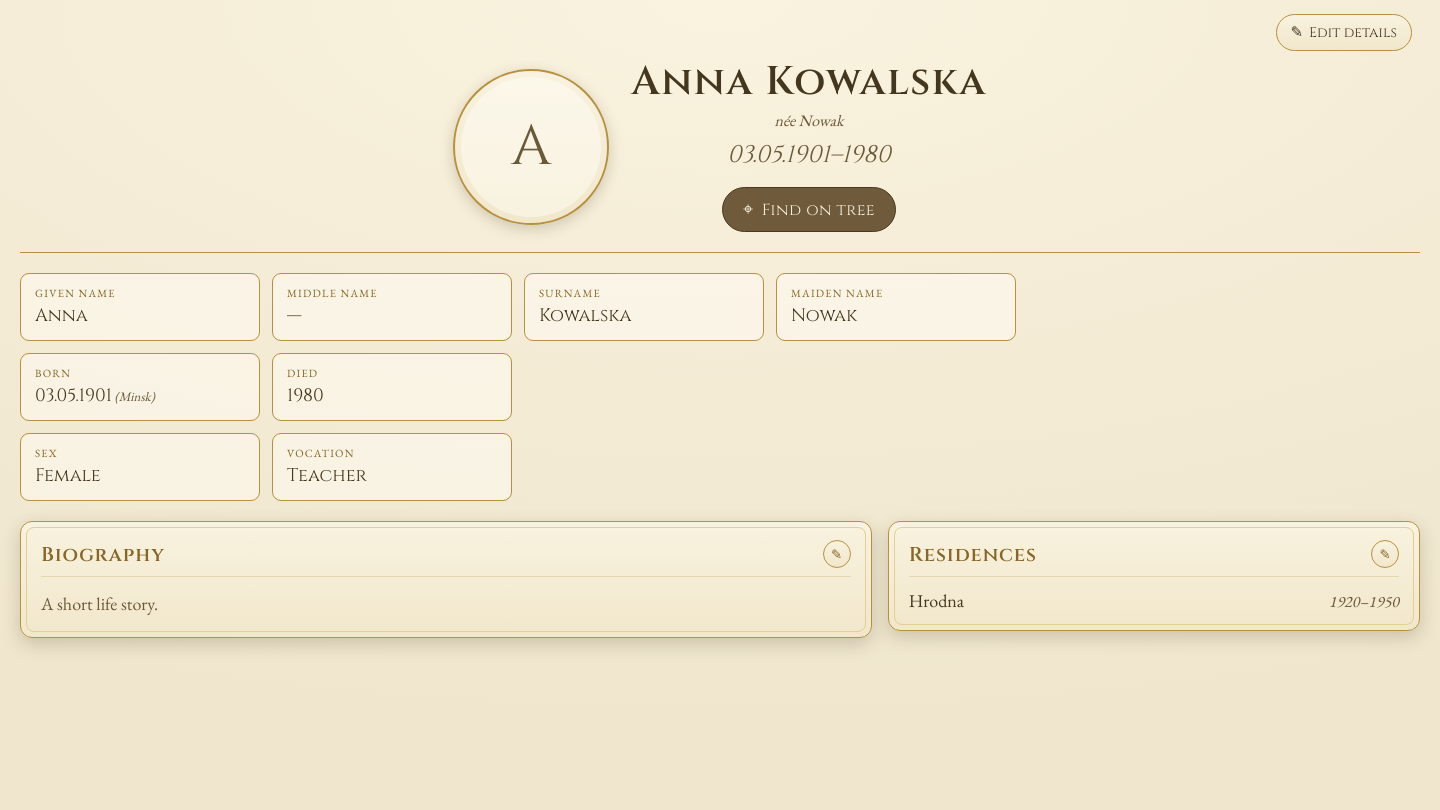
MemberDetail editing › opens the editor and hides the read-only tablets when Edit is clicked
The image size is (1440, 810).
Click the button with test id "fields-edit" at x=1344, y=32, box [1276, 14, 1412, 51]
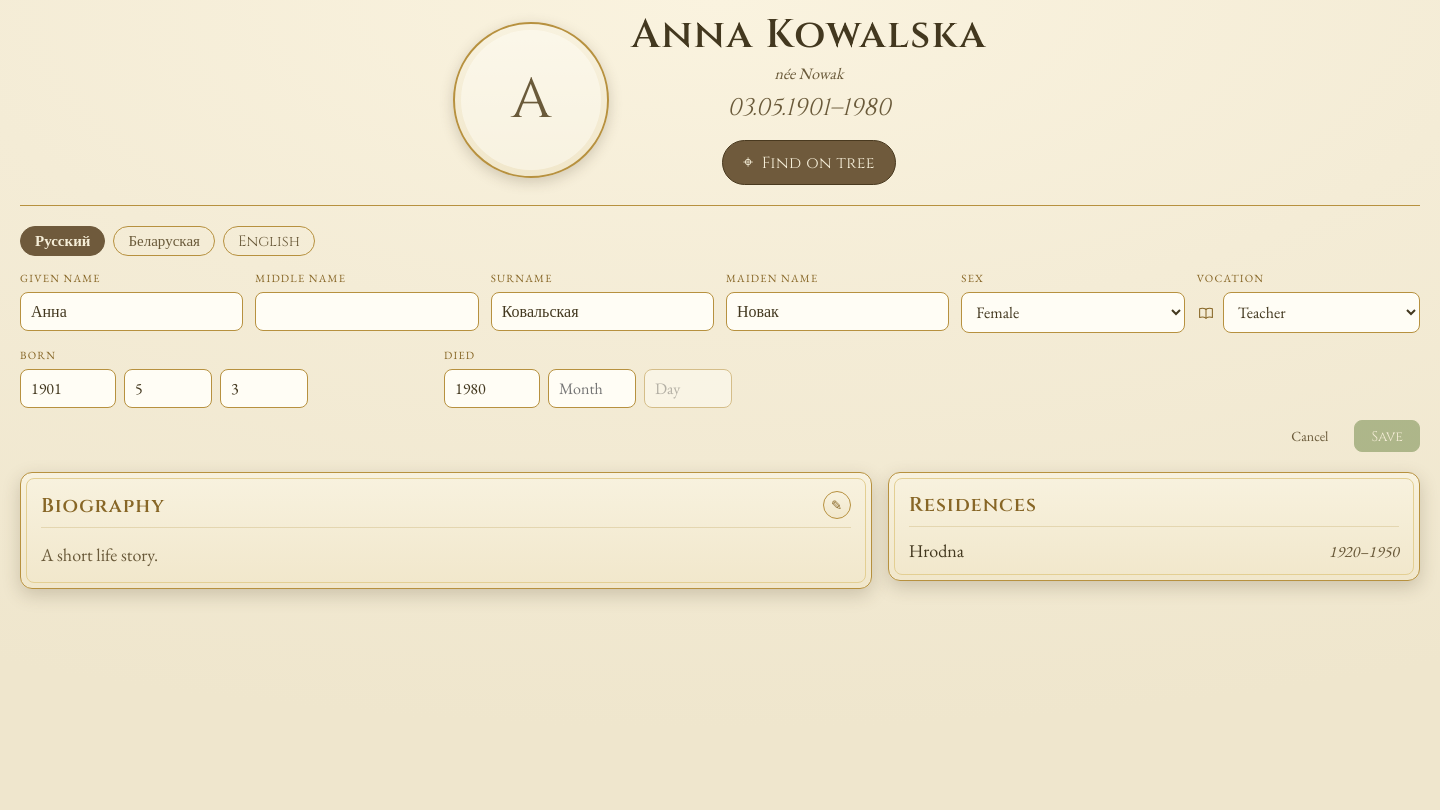
Now the element with test id "member-fields-editor" is shown, box [20, 226, 1420, 452]
